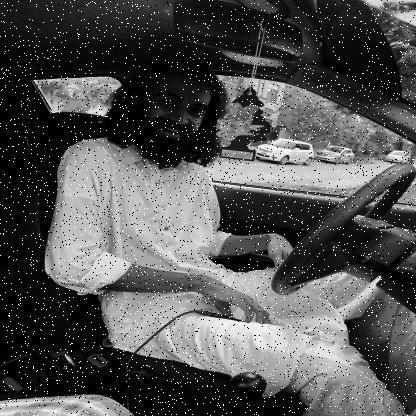no_seatbelt: (101, 52, 239, 272)
